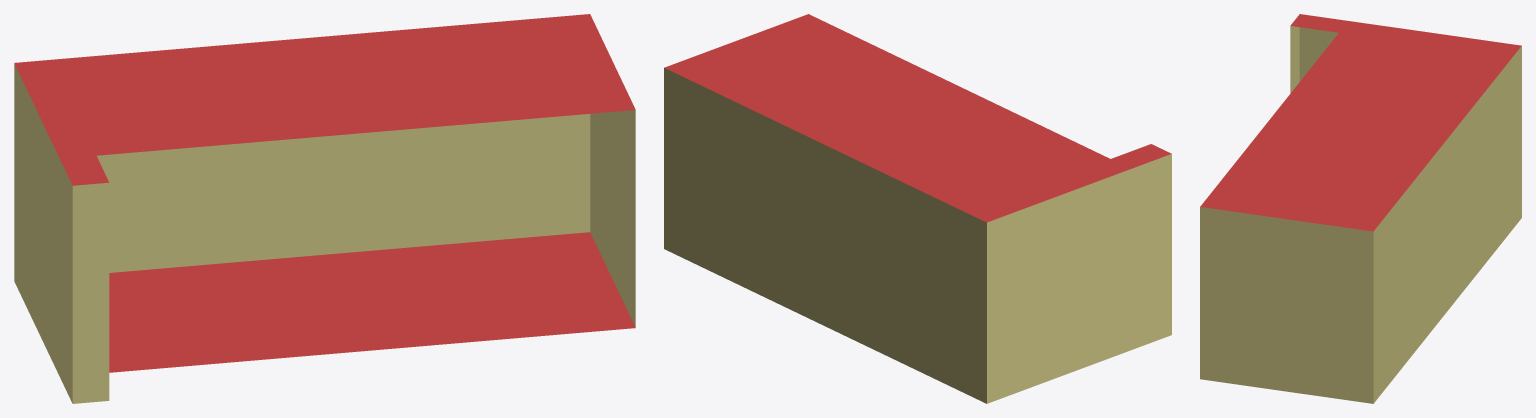
3 renders of one model, left to right at view 1: azimuth 30°, elevation 25°; view 2: azimuth 150°, elevation 25°; view 3: azimuth 270°, elevation 25°, orthographic. The views are drawn at different scales.
Size of the model in its own units: 17.38 by 10.86 by 6.42.
